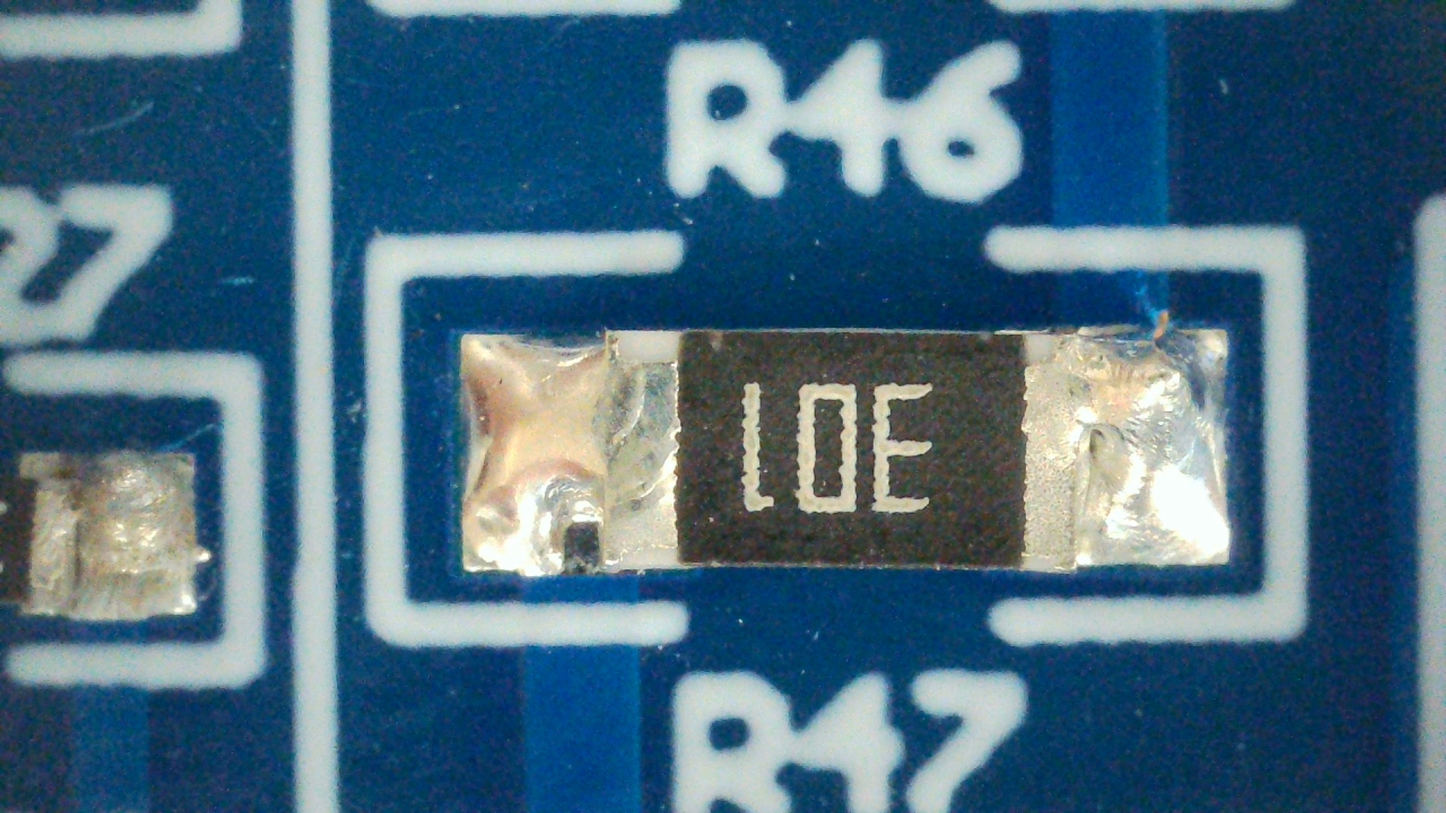OK: (463, 330, 1230, 573)
